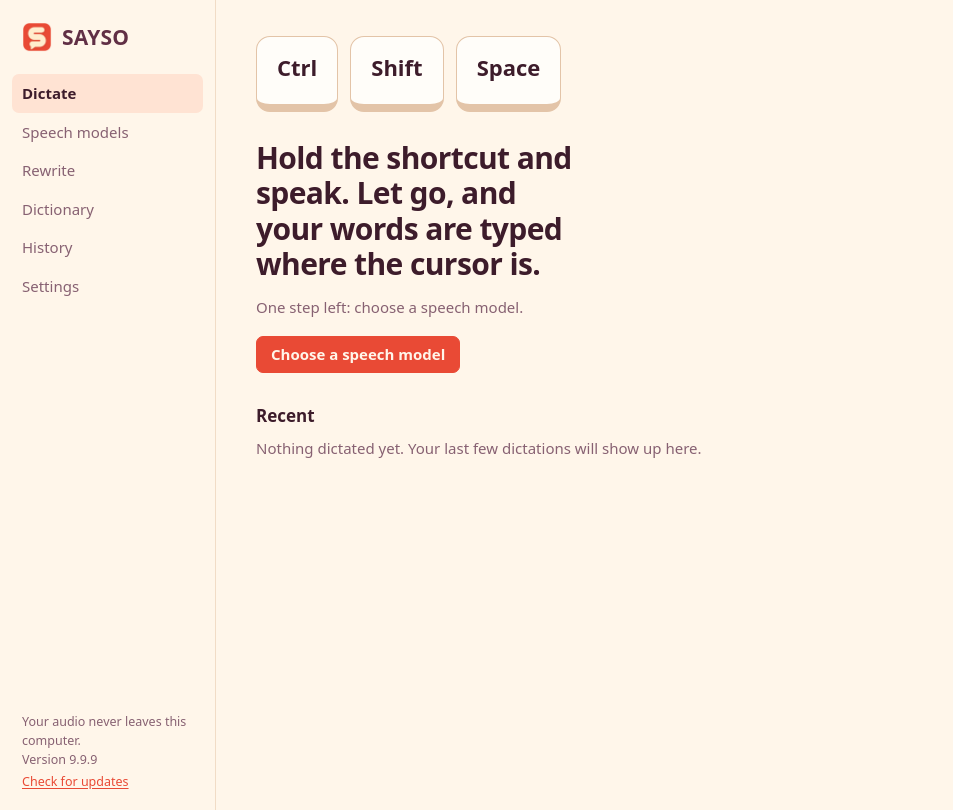
it: speech models › downloads a model picked in the dropdown, then switches to it
Expected: the navigation bar is shown, [0,0,216,809]
Click the button "Speech models" at (108, 132), box [12,112,203,151]
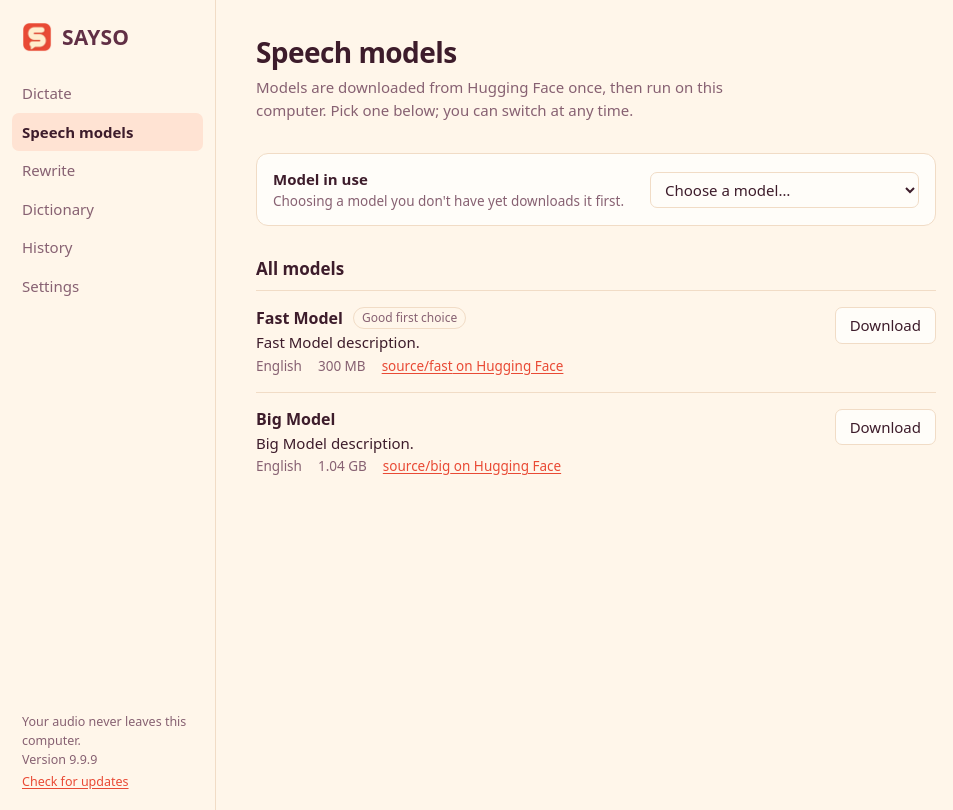
Expected: the heading "Speech models" is shown, [256,33,457,71]
Select "Big Model — download 1.04 GB" in the dropdown named "Model in use" at (784, 190), box [650,172,919,208]
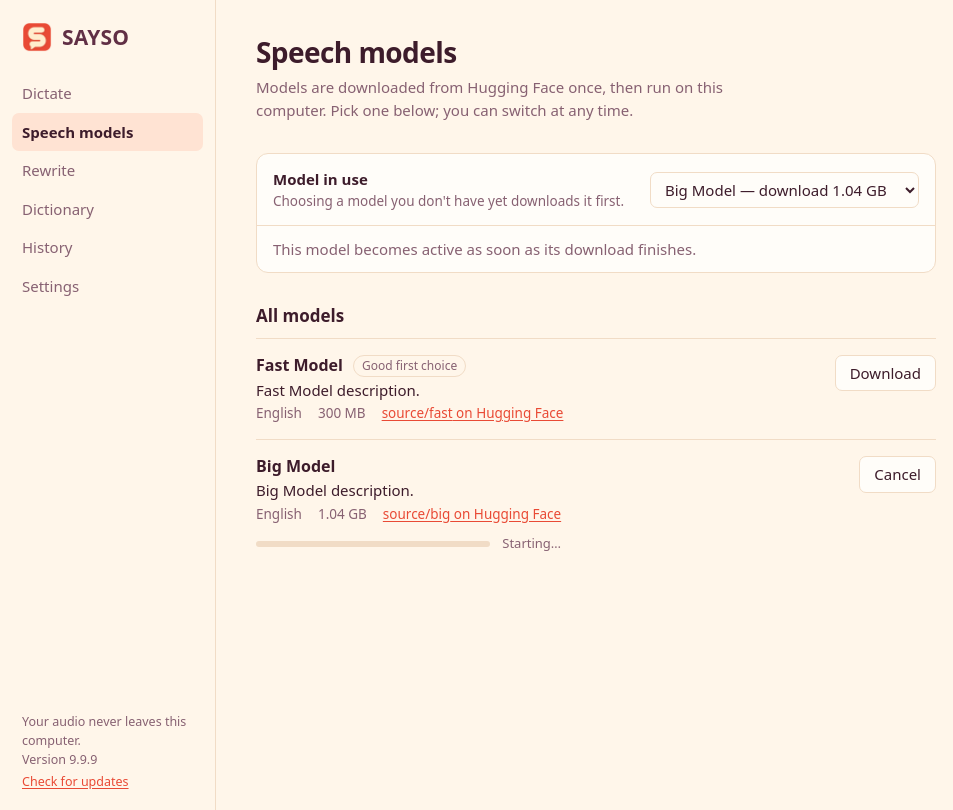
Now the text "This model becomes active as soon as its download finishes." is shown, box [257,225,935,272]
